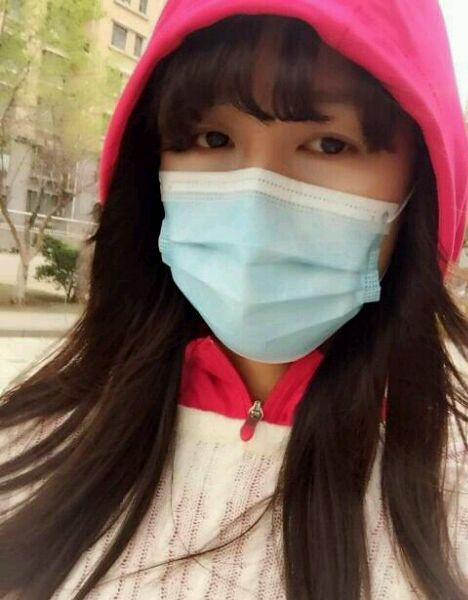face_mask: (158, 20, 392, 359)
